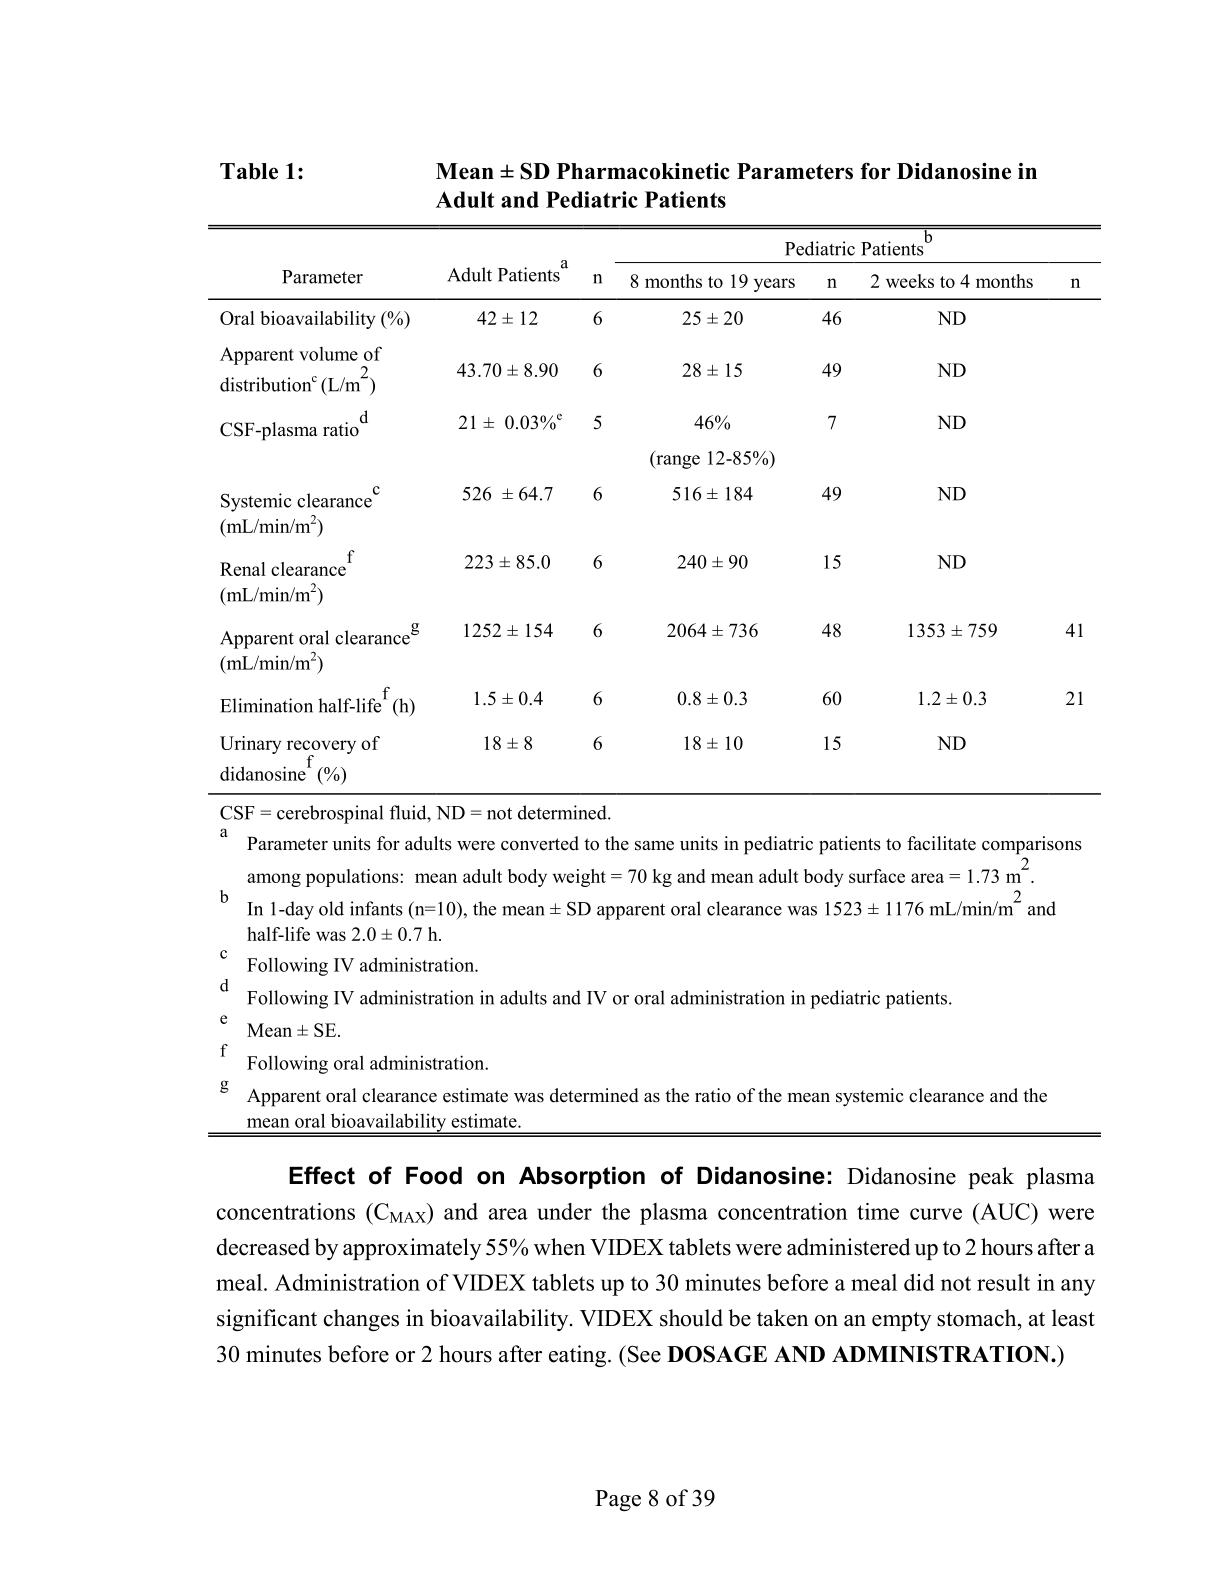partial_lined_merged_cells: (207, 222, 1101, 796)
